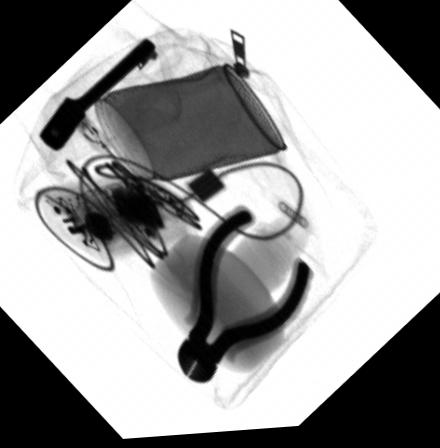Pliers: (172, 209, 315, 390)
Wrench: (39, 33, 157, 154)
